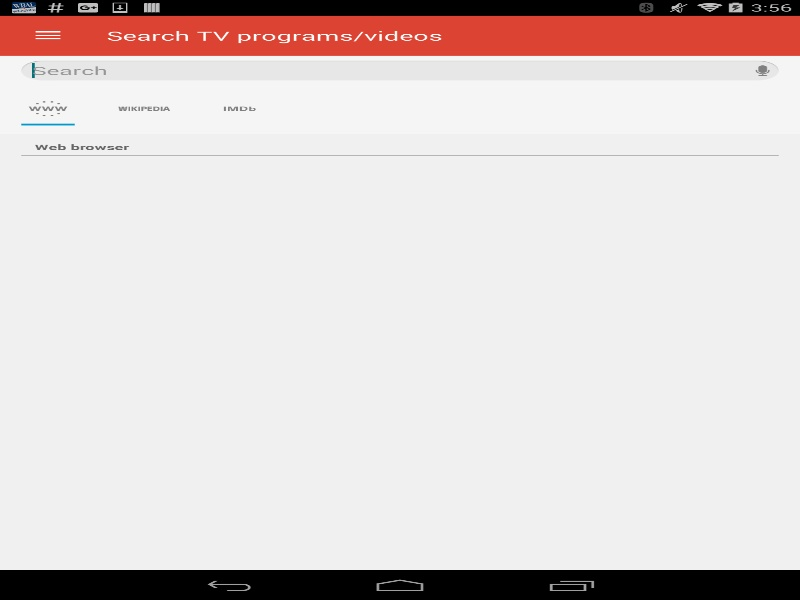Button: (10, 15, 85, 55), (746, 63, 778, 78)
Input: (21, 60, 778, 80)
